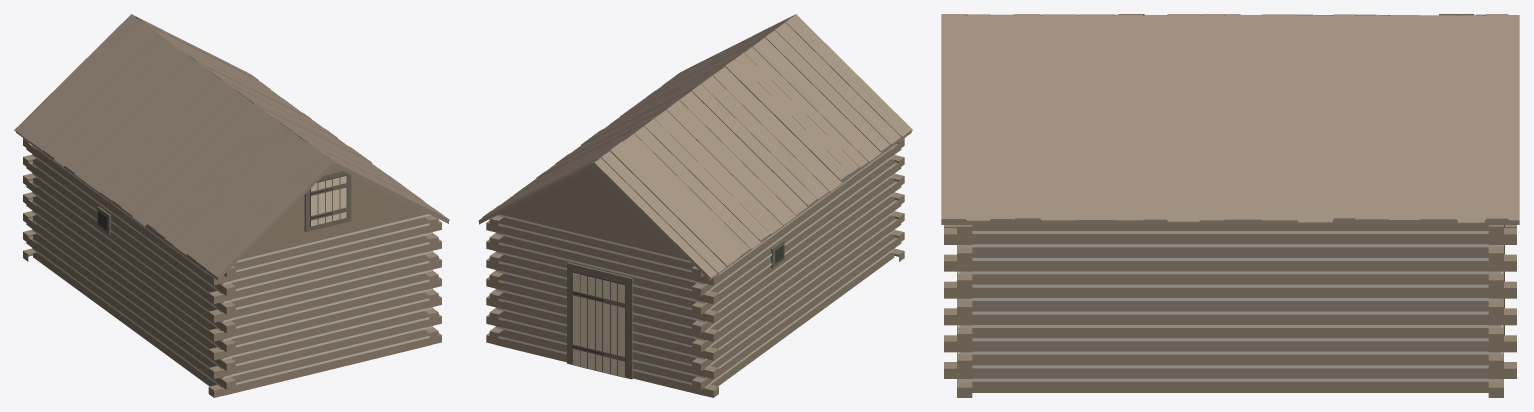
File: recon_1835_blk_washington_clark_a1_07__inferred_1835.glb
The picture shows the model from 3 angles, left to right: view 1: azimuth 30°, elevation 25°; view 2: azimuth 150°, elevation 25°; view 3: azimuth 270°, elevation 25°; orthographic projection. The views are drawn at different scales.
Parts seen in each view (by area): view 1: recon_1835_blk_washington_clark_a1_07__inferred_1835; view 2: recon_1835_blk_washington_clark_a1_07__inferred_1835; view 3: recon_1835_blk_washington_clark_a1_07__inferred_1835.
Boxes of the visible parts, box(x1,y1,x2,y2) form: recon_1835_blk_washington_clark_a1_07__inferred_1835: box(14, 14, 449, 397); recon_1835_blk_washington_clark_a1_07__inferred_1835: box(478, 14, 912, 397); recon_1835_blk_washington_clark_a1_07__inferred_1835: box(941, 14, 1519, 397).
Size of the model in its own units: 6.02 by 5.23 by 8.96.
